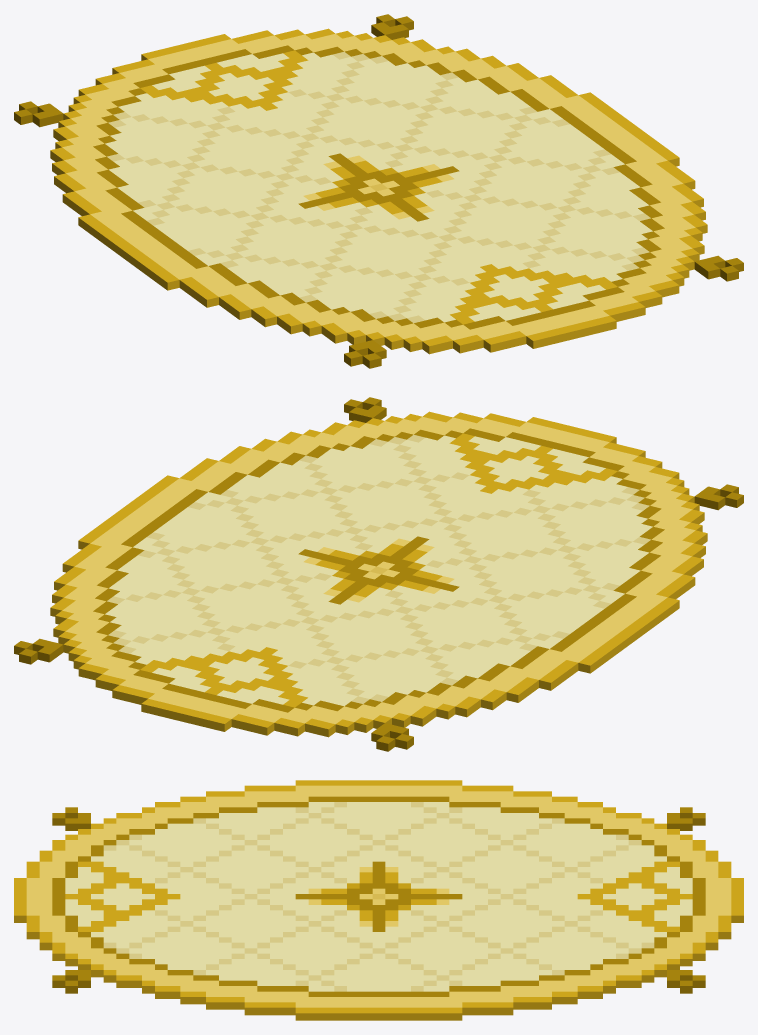
Rendered from PixelRug_Honey-Wafer_First-Edition_2021.glb.
The picture shows the model from 3 angles, top to bottom: view 1: azimuth 30°, elevation 25°; view 2: azimuth 150°, elevation 25°; view 3: azimuth 270°, elevation 25°; orthographic projection. The views are drawn at different scales.
Visible parts, largest first — view 1: Curve.461; view 2: Curve.461; view 3: Curve.461.
Boxes of the visible parts, x1,y1,x2,y2 form: Curve.461: (14, 14, 743, 368); Curve.461: (14, 397, 743, 751); Curve.461: (14, 780, 743, 1020).
Size of the model in its own units: 0.8275 by 0.0123 by 1.1.
